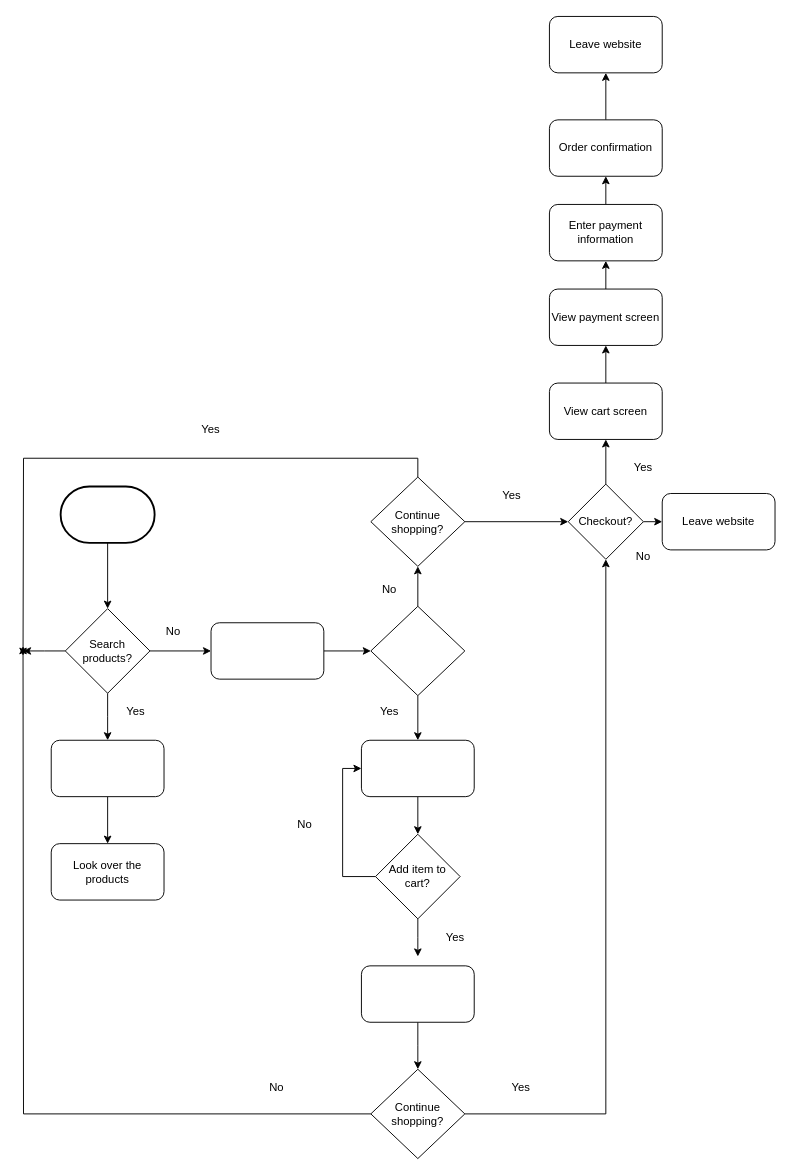
This 791x1175 diagram has some shape labels left out. Here are the shapes that lost their labels. From the top down, the centre of each, then its label:
(107,514): Start
(267,650): Look over the products on explore page
(417,650): View specific item?
(107,768): Enter a search input
(417,768): Open product's webpage
(417,993): Item confirmation
